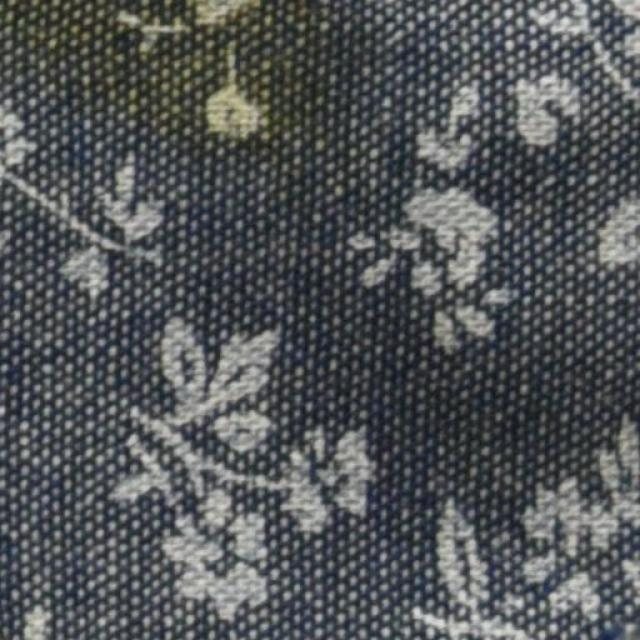Stain: (0, 0, 347, 157)
